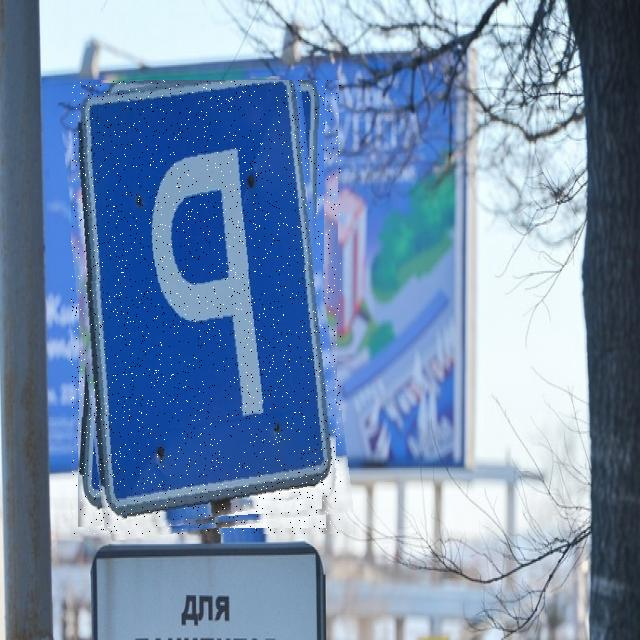parking: (71, 80, 342, 534)
